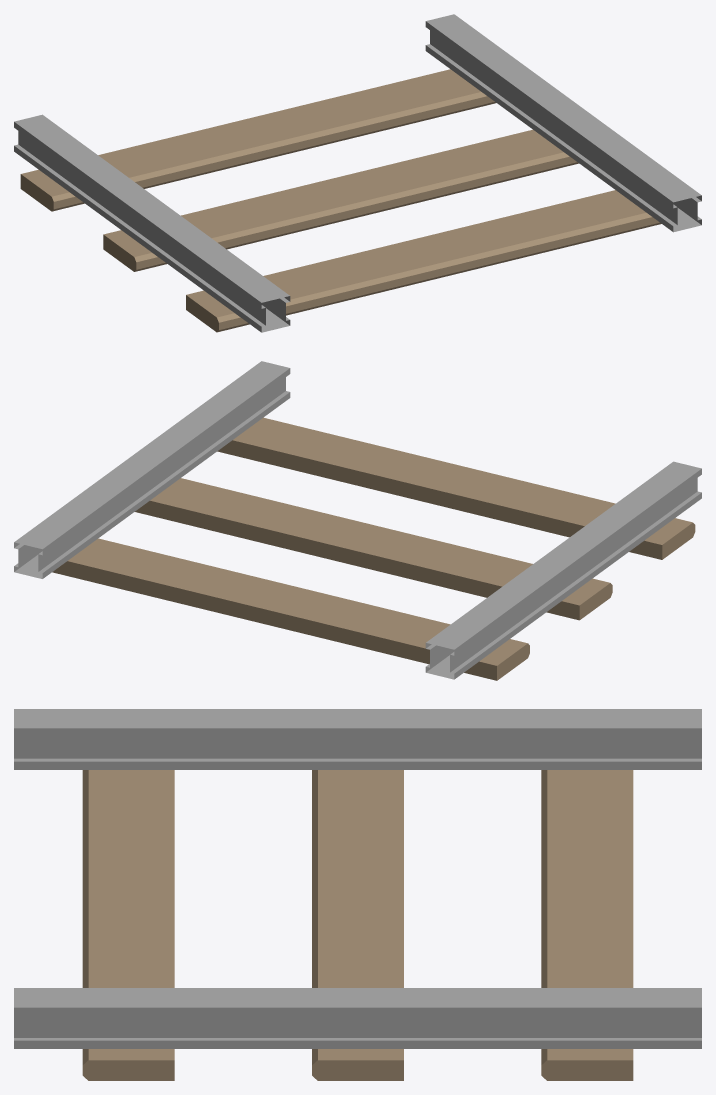
File: lava_mineTrackPlank00.fbx
3 renders of one model, top to bottom at view 1: azimuth 30°, elevation 25°; view 2: azimuth 150°, elevation 25°; view 3: azimuth 270°, elevation 25°, orthographic. The views are drawn at different scales.
Visible parts, largest first — view 1: lava_mineTrackWood00; view 2: lava_mineTrackWood00; view 3: lava_mineTrackWood00.
Boxes of the visible parts, box(x1,y1,x2,y2) form: lava_mineTrackWood00: box(14, 14, 701, 332); lava_mineTrackWood00: box(14, 361, 701, 680); lava_mineTrackWood00: box(14, 709, 701, 1080).
Size of the model in its own units: 166 by 15 by 150.
